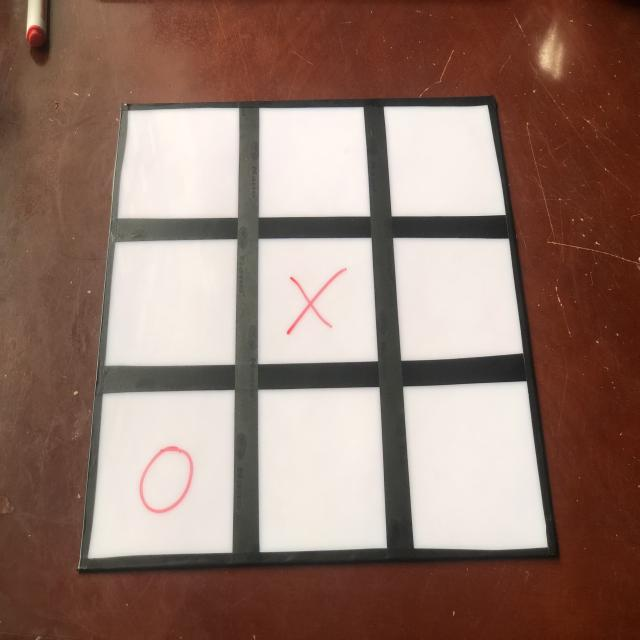null: (395, 371, 547, 562), (256, 386, 387, 552), (103, 239, 239, 366), (393, 230, 523, 361), (114, 107, 243, 220), (384, 104, 505, 216), (259, 107, 370, 217)
o: (139, 440, 197, 517)
table: (65, 95, 559, 568)
x: (284, 270, 347, 336)
